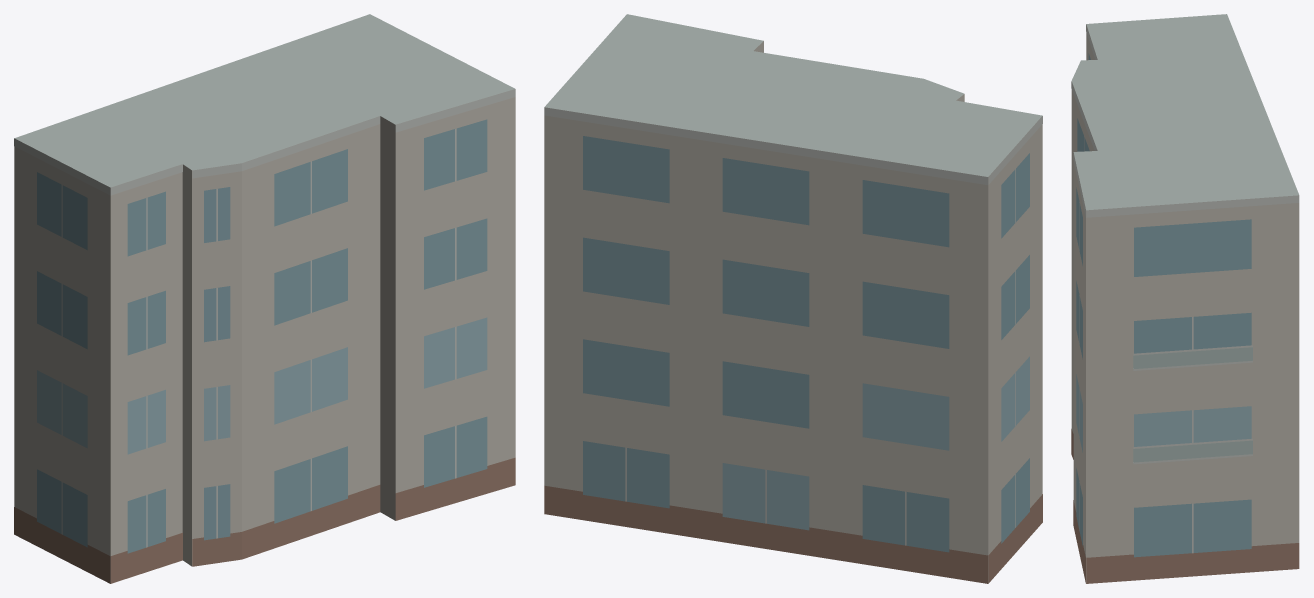
File: survey-upis-32973092.glb
3 renders of one model, left to right at view 1: azimuth 30°, elevation 25°; view 2: azimuth 150°, elevation 25°; view 3: azimuth 270°, elevation 25°, orthographic. The views are drawn at different scales.
Visible parts, largest first — view 1: survey-upis-32973092.tmp; view 2: survey-upis-32973092.tmp; view 3: survey-upis-32973092.tmp.
Part boxes in pixels (box(x1,y1,x2,y2)): survey-upis-32973092.tmp: box(14, 14, 515, 583); survey-upis-32973092.tmp: box(544, 14, 1042, 583); survey-upis-32973092.tmp: box(1071, 14, 1299, 583).
Bounding box in the file's own units: 13.59 × 12.05 × 6.67.
